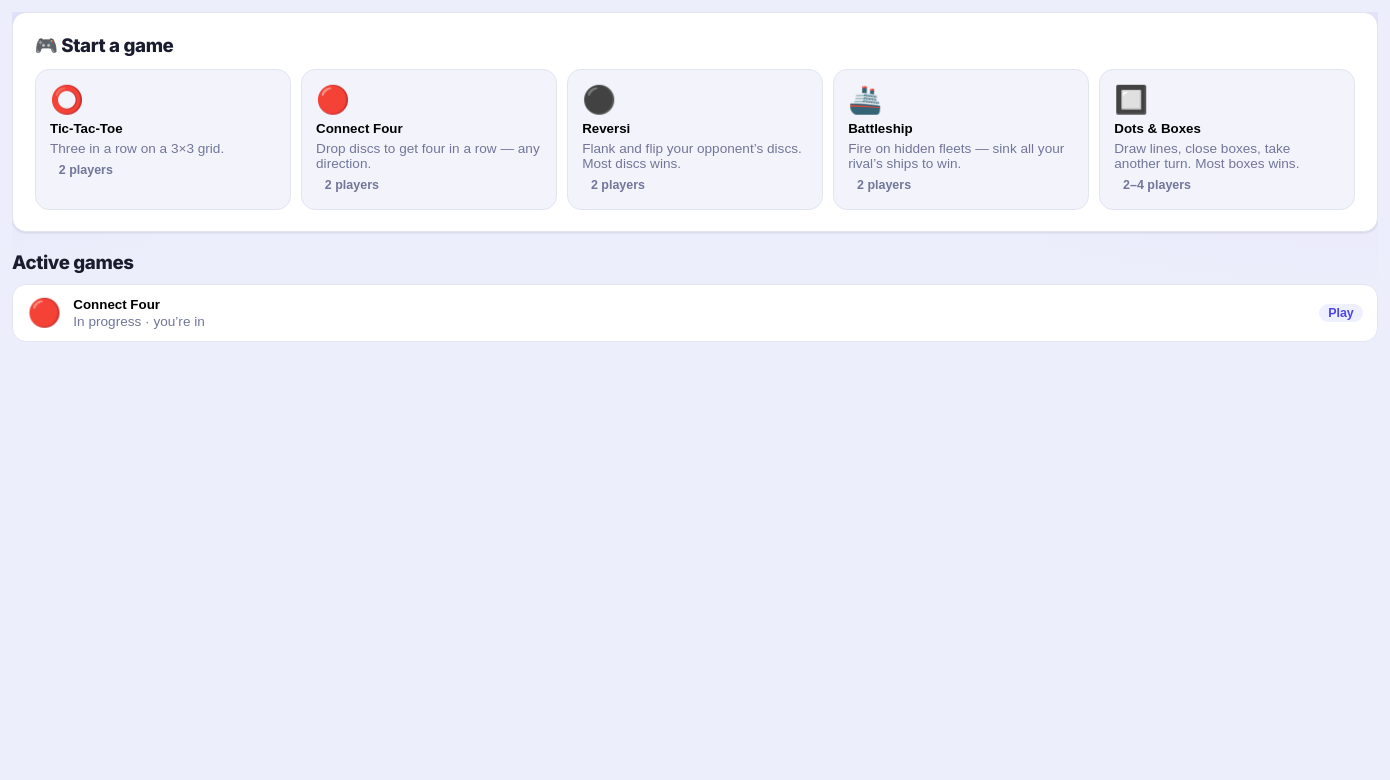
it: GamesPanel › drops a disc in a started Connect Four game
The width and height of the screenshot is (1390, 780).
What coordinates should you click on to do the following:
click the button "🔴 Connect Four In progress · you’re in Play"
I would click on:
 (44, 312)
Its box is left=12, top=284, right=1378, bottom=342.
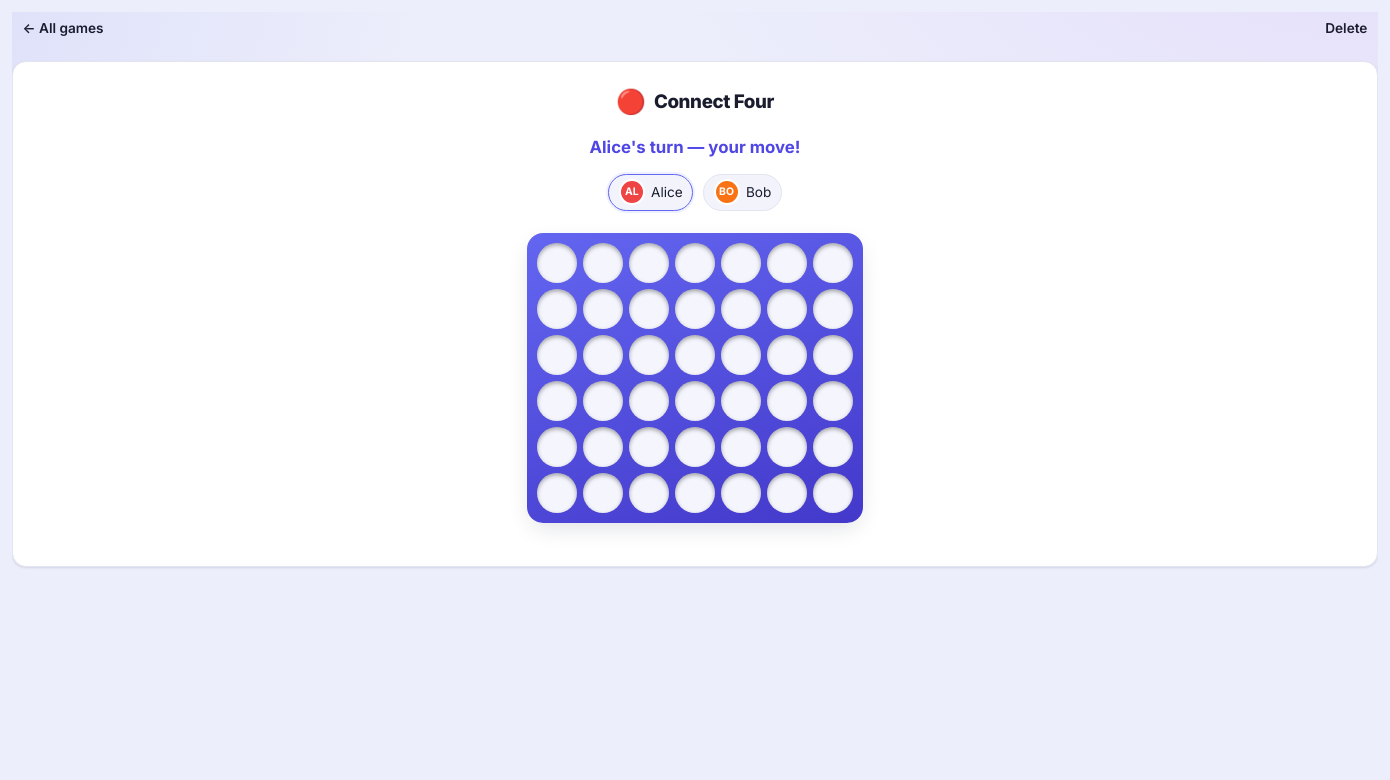
Expected: the element named "Connect Four board" is shown, left=527, top=233, right=863, bottom=523
What coordinates should you click on to do the following:
click the button named "Drop in column 4"
I would click on:
 (695, 378)
Its box is left=675, top=243, right=715, bottom=513.
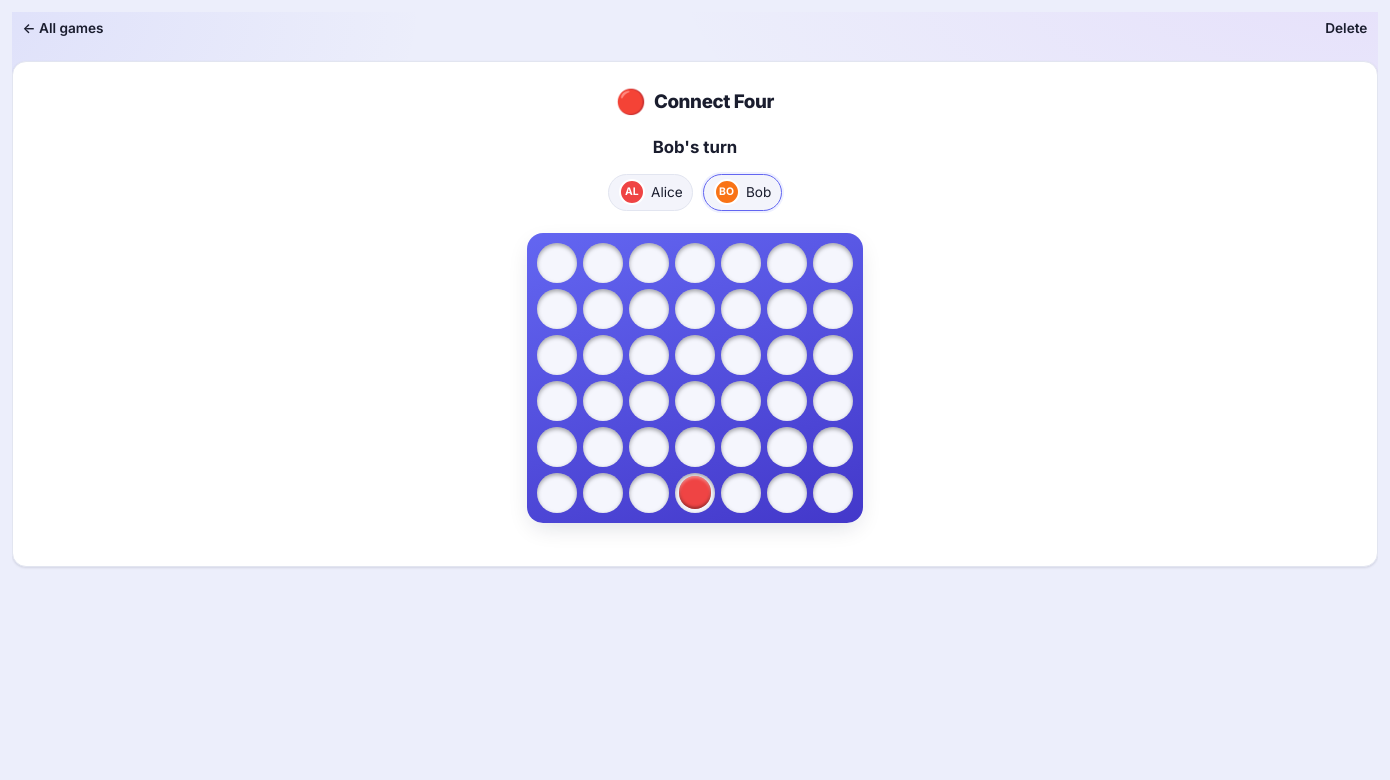
Expected: the text "Bob's turn" is shown, left=653, top=134, right=737, bottom=160
